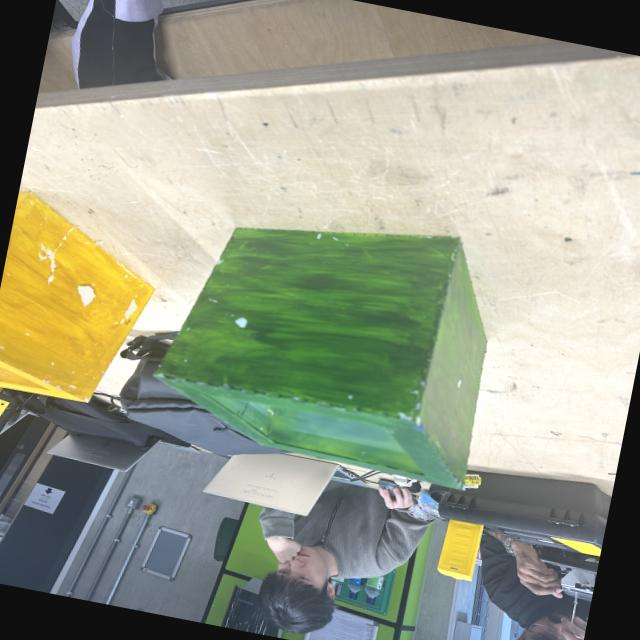green_bin: (142, 184, 510, 492)
